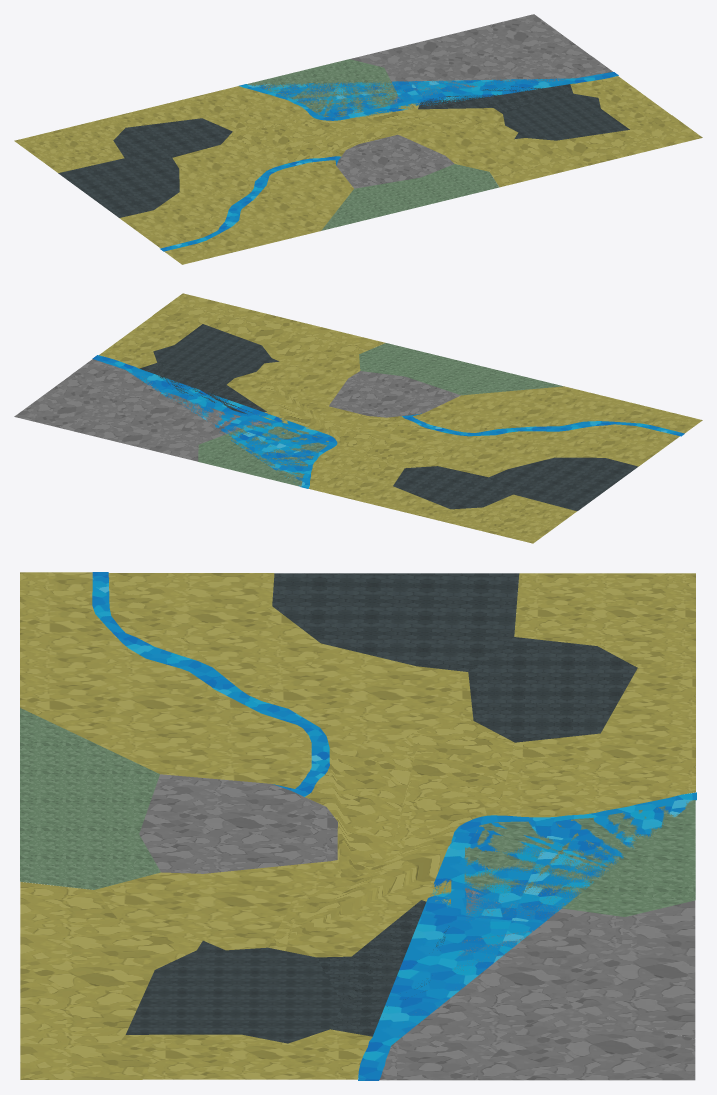
File: Map Alt.fbx
3 renders of one model, top to bottom at view 1: azimuth 30°, elevation 25°; view 2: azimuth 150°, elevation 25°; view 3: azimuth 270°, elevation 25°, orthographic. The views are drawn at different scales.
Parts seen in each view (by area): view 1: Map; view 2: Map; view 3: Map.
Boxes of the visible parts, <box> form: Map: <box>14,14,702,264</box>; Map: <box>14,293,702,543</box>; Map: <box>20,572,696,1080</box>.
Bounding box in the file's own units: 197189 × 0.0181 × 110828.
5 materials, 5 textured.
